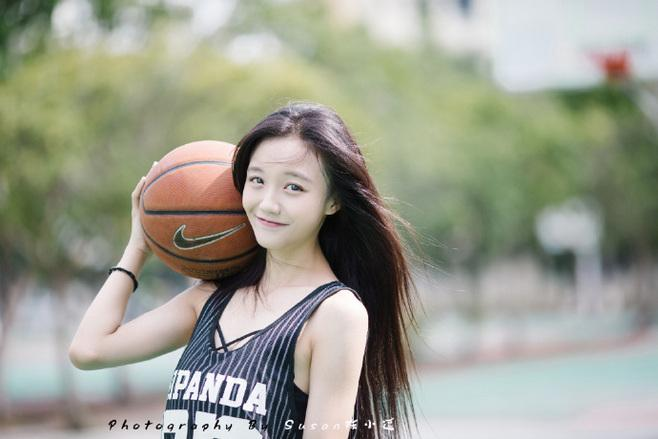person: (91, 85, 401, 439)
